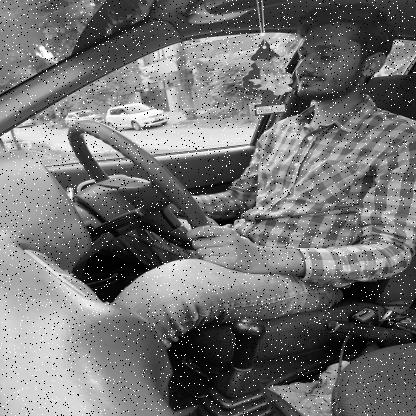no_seatbelt: (245, 15, 383, 236)
